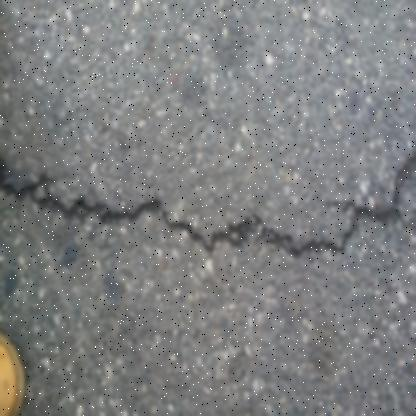Cracks: (0, 145, 415, 265)
